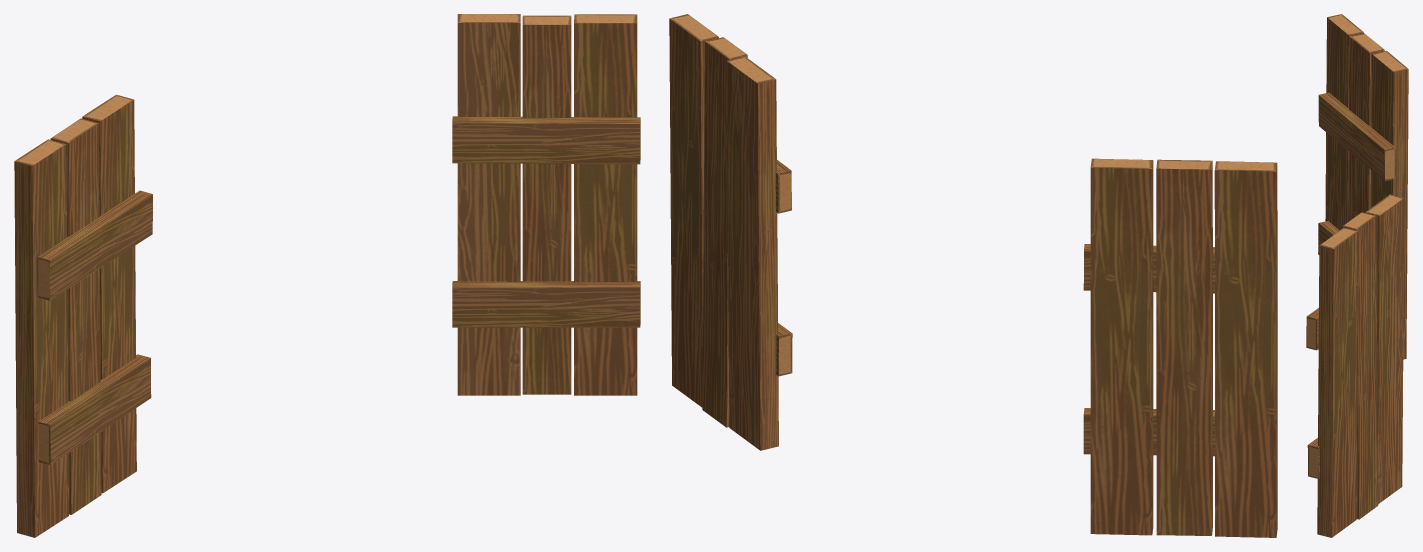
The picture shows the model from 3 angles, left to right: view 1: azimuth 30°, elevation 25°; view 2: azimuth 150°, elevation 25°; view 3: azimuth 270°, elevation 25°; orthographic projection. The views are drawn at different scales.
Visible parts, largest first — view 1: WindowShutters_Wide_Flat_Open; view 2: WindowShutters_Wide_Flat_Open; view 3: WindowShutters_Wide_Flat_Open.
Part boxes in pixels (x1,y1,x2,y2): WindowShutters_Wide_Flat_Open: [14, 14, 640, 537]; WindowShutters_Wide_Flat_Open: [669, 14, 1277, 537]; WindowShutters_Wide_Flat_Open: [1306, 14, 1408, 537].
Size of the model in its own units: 2.48 by 1.42 by 0.4565.
1 material, 1 textured.
